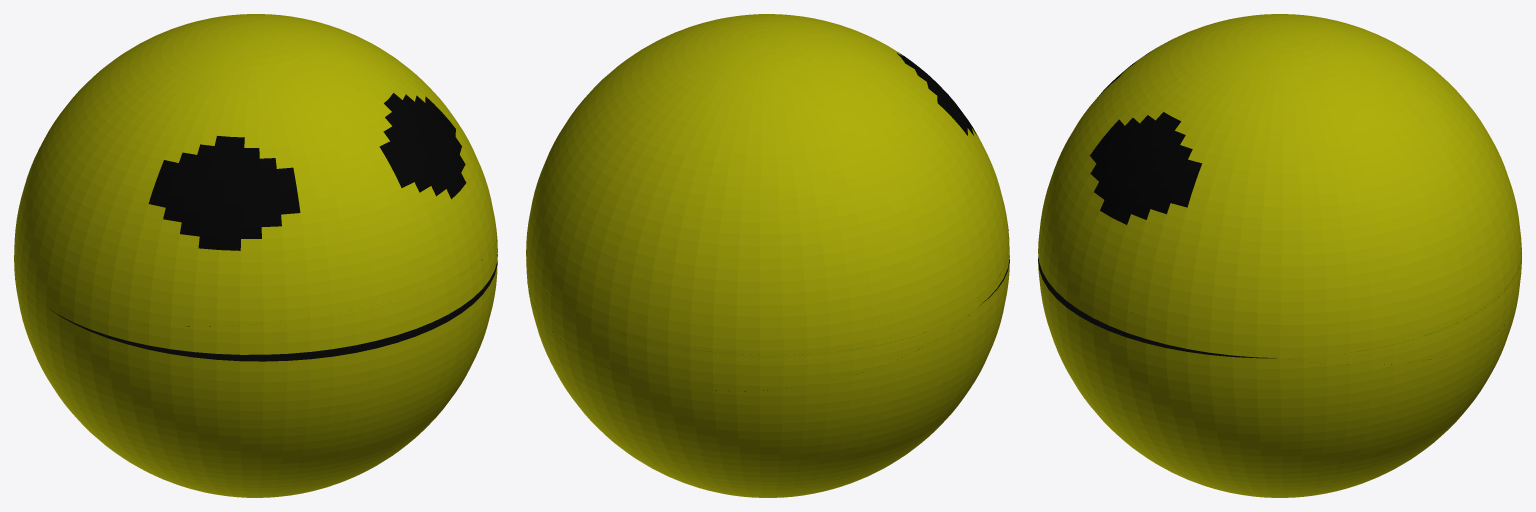
Rendered from man.fbx.
3 renders of one model, left to right at view 1: azimuth 30°, elevation 25°; view 2: azimuth 150°, elevation 25°; view 3: azimuth 270°, elevation 25°, orthographic.
Visible parts, largest first — view 1: Top, Bottom, Eyes, Bot_Mouth; view 2: Top, Bottom, Eyes; view 3: Top, Bottom, Eyes, Bot_Mouth.
Part boxes in pixels (bbox=[...]): Top: bbox=[14, 14, 497, 354]; Bottom: bbox=[14, 258, 497, 497]; Eyes: bbox=[148, 93, 466, 250]; Bot_Mouth: bbox=[14, 254, 497, 361]; Top: bbox=[526, 14, 1009, 361]; Bottom: bbox=[526, 253, 1009, 497]; Eyes: bbox=[897, 52, 976, 135]; Top: bbox=[1038, 14, 1521, 358]; Bottom: bbox=[1038, 254, 1521, 497]; Eyes: bbox=[1090, 50, 1202, 224]; Bot_Mouth: bbox=[1038, 253, 1521, 358].
Size of the model in its own units: 200 by 200 by 200.
